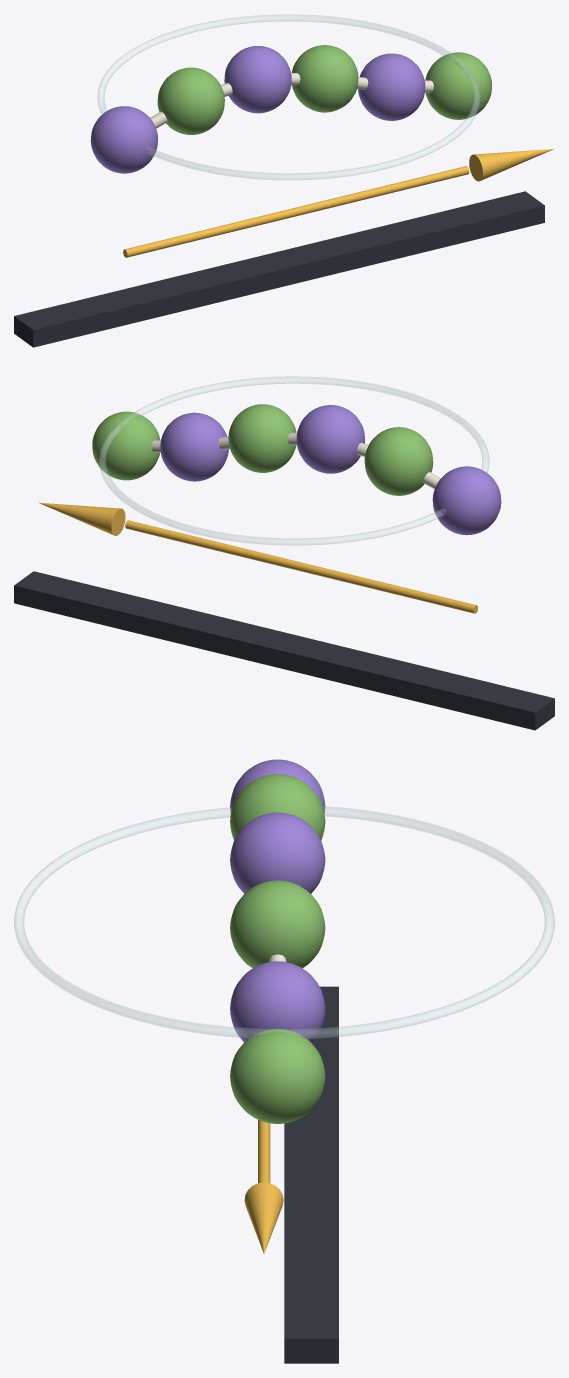
The model's file is chem-p1-polymer.glb.
3 views of the same model, one above another, from view 1: azimuth 30°, elevation 25°; view 2: azimuth 150°, elevation 25°; view 3: azimuth 270°, elevation 25° (orthographic). The views are drawn at different scales.
Visible parts, largest first — view 1: organic-chemistry-bench-reference-base, long-chain-polymer-flexible-coil, repeating-polymer-monomer-unit-0, repeating-polymer-monomer-unit-1, repeating-polymer-monomer-unit-2, repeating-polymer-monomer-unit-5, repeating-polymer-monomer-unit-3, repeating-polymer-monomer-unit-4, many-monomers-linked-direction-shaft, many-monomers-linked-direction-head; view 2: organic-chemistry-bench-reference-base, long-chain-polymer-flexible-coil, repeating-polymer-monomer-unit-0, repeating-polymer-monomer-unit-1, repeating-polymer-monomer-unit-2, repeating-polymer-monomer-unit-5, repeating-polymer-monomer-unit-3, repeating-polymer-monomer-unit-4, many-monomers-linked-direction-shaft, many-monomers-linked-direction-head; view 3: organic-chemistry-bench-reference-base, long-chain-polymer-flexible-coil, repeating-polymer-monomer-unit-5, repeating-polymer-monomer-unit-3, repeating-polymer-monomer-unit-2, repeating-polymer-monomer-unit-4, repeating-polymer-monomer-unit-1, many-monomers-linked-direction-head, repeating-polymer-monomer-unit-0, many-monomers-linked-direction-shaft.
Part boxes in pixels (bbox=[...]): organic-chemistry-bench-reference-base: bbox=[14, 191, 544, 347]; long-chain-polymer-flexible-coil: bbox=[97, 14, 480, 179]; repeating-polymer-monomer-unit-0: bbox=[90, 106, 157, 173]; repeating-polymer-monomer-unit-1: bbox=[157, 67, 224, 134]; repeating-polymer-monomer-unit-2: bbox=[224, 46, 291, 113]; repeating-polymer-monomer-unit-5: bbox=[425, 52, 491, 119]; repeating-polymer-monomer-unit-3: bbox=[292, 45, 358, 112]; repeating-polymer-monomer-unit-4: bbox=[358, 53, 425, 120]; many-monomers-linked-direction-shaft: bbox=[123, 166, 469, 257]; many-monomers-linked-direction-head: bbox=[469, 148, 554, 181]; organic-chemistry-bench-reference-base: bbox=[14, 571, 554, 730]; long-chain-polymer-flexible-coil: bbox=[99, 376, 489, 545]; repeating-polymer-monomer-unit-0: bbox=[432, 466, 501, 535]; repeating-polymer-monomer-unit-1: bbox=[364, 427, 433, 495]; repeating-polymer-monomer-unit-2: bbox=[296, 405, 364, 473]; repeating-polymer-monomer-unit-5: bbox=[92, 411, 160, 480]; repeating-polymer-monomer-unit-3: bbox=[228, 404, 296, 472]; repeating-polymer-monomer-unit-4: bbox=[160, 412, 228, 481]; many-monomers-linked-direction-shaft: bbox=[125, 520, 477, 613]; many-monomers-linked-direction-head: bbox=[38, 502, 125, 535]; organic-chemistry-bench-reference-base: bbox=[284, 986, 338, 1363]; long-chain-polymer-flexible-coil: bbox=[14, 806, 554, 1038]; repeating-polymer-monomer-unit-5: bbox=[230, 1028, 325, 1123]; repeating-polymer-monomer-unit-3: bbox=[230, 880, 325, 968]; repeating-polymer-monomer-unit-2: bbox=[230, 812, 325, 893]; repeating-polymer-monomer-unit-4: bbox=[230, 961, 325, 1042]; repeating-polymer-monomer-unit-1: bbox=[230, 774, 325, 840]; many-monomers-linked-direction-head: bbox=[244, 1182, 283, 1253]; repeating-polymer-monomer-unit-0: bbox=[230, 759, 325, 813]; many-monomers-linked-direction-shaft: bbox=[258, 1120, 270, 1183].
Size of what is drawn, in the model's own units: 2.46 by 1.13 by 1.59.
